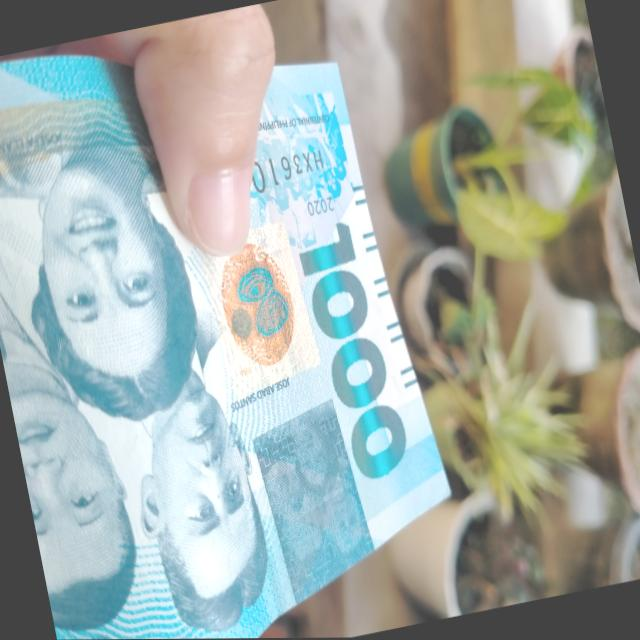concealed_value: (251, 401, 375, 607)
optically_variable_device: (200, 217, 324, 399)
serial_number: (236, 138, 332, 197)
